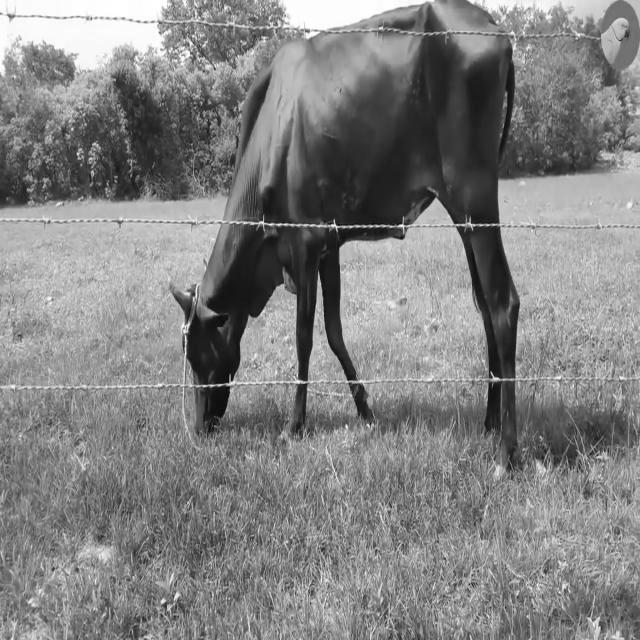cow: (172, 0, 519, 471)
